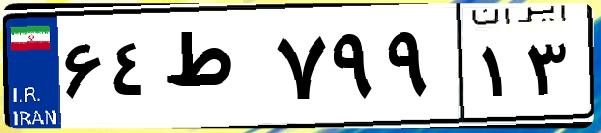1: (475, 38, 525, 113)
3: (525, 38, 570, 115)
4: (110, 28, 158, 98)
6: (57, 26, 110, 100)
7: (270, 28, 330, 110)
9: (385, 28, 445, 110), (330, 28, 385, 110)
ط: (158, 20, 270, 120)
